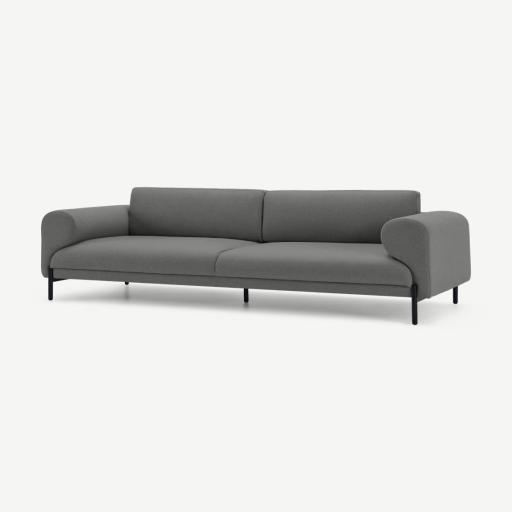back_cushion: (129, 188, 419, 243)
left_arm: (381, 211, 470, 299)
legs: (48, 269, 65, 300), (411, 285, 418, 325), (243, 289, 248, 303), (454, 287, 456, 303)
right_arm: (42, 205, 128, 277)
seat_cushion: (53, 236, 412, 286)
two-seater: (0, 0, 511, 512)
